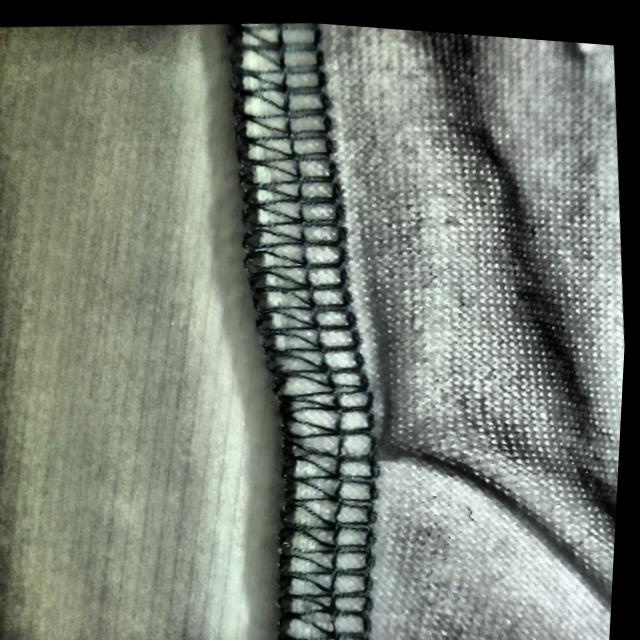seam: (212, 307, 531, 535)
